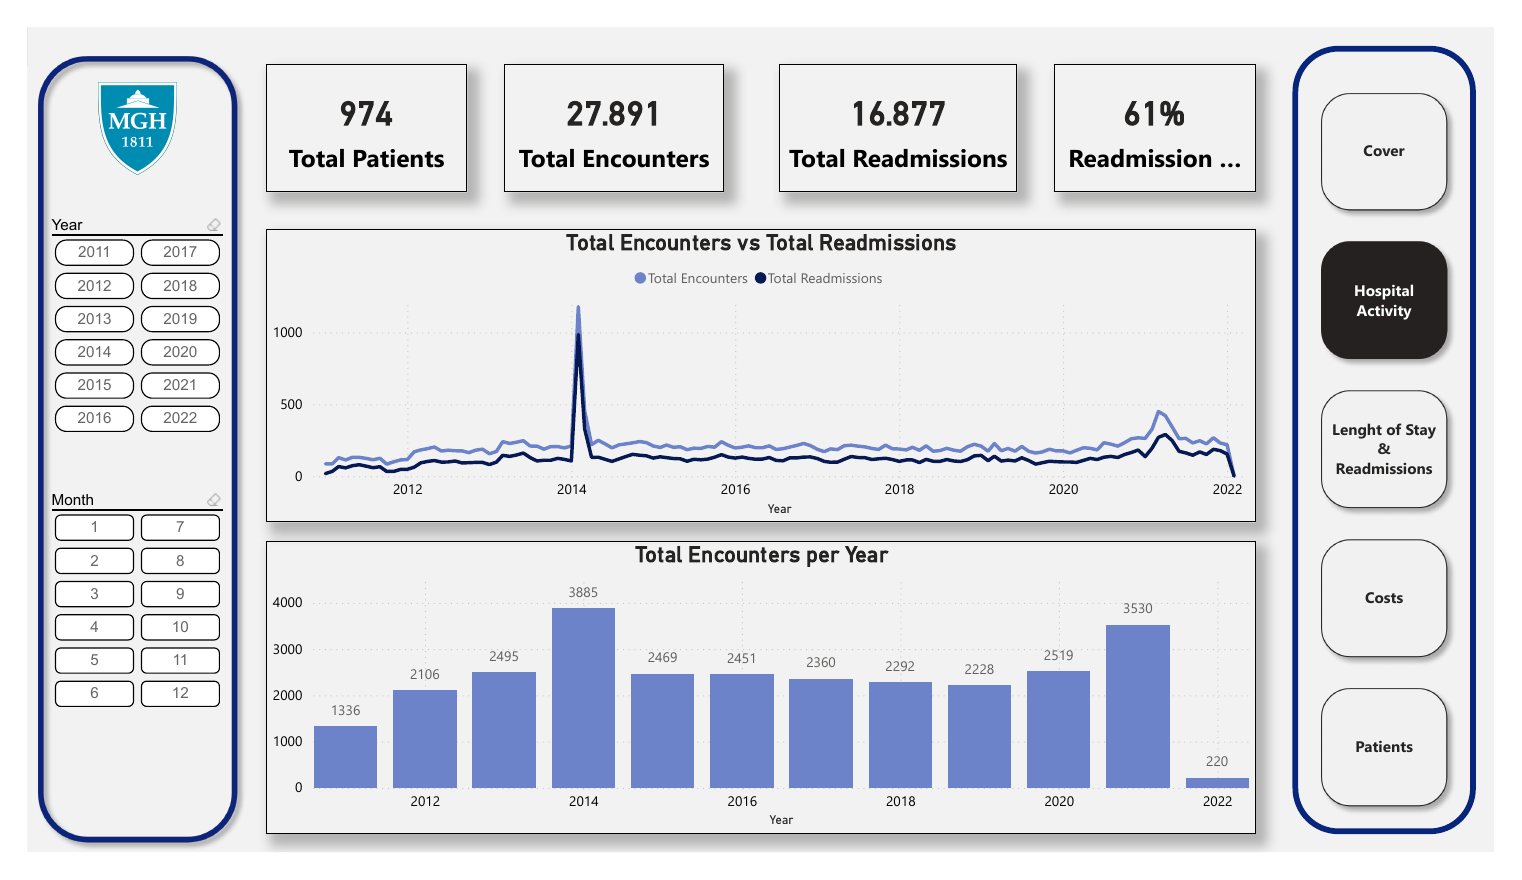

The page's visual inventory and layout, read from the dashboard file:
{"tool":"powerbi","page":{"name":"Hospital Activity","canvas":[1280,720],"ordinal":1},"visuals":[{"type":"shape","box":[0,16,192,704],"z":0},{"type":"shape","box":[1104,16,160,688],"z":1000},{"type":"card","title":"Total Encounters","fields":{"Values":["MEASURES_.TOTAL_ENCOUNTERS"]},"box":[416,32,192,112],"z":2000},{"type":"card","title":"(≤ 30 days)","fields":{"Values":["MEASURES_.TOTAL_READMISSIONS"]},"box":[656,32,208,112],"z":3000},{"type":"card","fields":{"Values":["MEASURES_.Readmission Rate"]},"box":[896,32,176,112],"z":4000},{"type":"card","fields":{"Values":["MEASURES_.Total Patients"]},"box":[208,32,176,112],"z":5000},{"type":"image","box":[48,48,96,80],"z":6000},{"type":"pageNavigator","box":[1120,48,128,640],"z":7000},{"type":"columnChart","title":"Total Encounters per Year","fields":{"Category":["DIM_Date.YEAR"],"Y":["MEASURES_.Total Encounters"]},"box":[208,448,864,256],"z":8000},{"type":"ChicletSlicer1448559807354","fields":{"Category":["DIM_Date.Year"]},"box":[16,160,160,224],"z":9000},{"type":"ChicletSlicer1448559807354","fields":{"Category":["DIM_Date.Month"]},"box":[16,400,160,208],"z":10000},{"type":"lineChart","title":"Total Encounters vs Total Readmissions","fields":{"Category":["DIM_Date.YearMonth"],"Y":["MEASURES_.TOTAL_ENCOUNTERS","MEASURES_.TOTAL_READMISSIONS"]},"box":[208,176,864,256],"z":11000}]}

Visuals, with their boxes in screenshot pixels (x1, y1, x2, y2), scaled from the page's 1280x720 canvas onto the 1522x880 screenshot:
shape: {"x1": 0, "y1": 20, "x2": 228, "y2": 879}
shape: {"x1": 1313, "y1": 20, "x2": 1503, "y2": 860}
"Total Encounters" card: {"x1": 495, "y1": 39, "x2": 723, "y2": 176}
"(≤ 30 days)" card: {"x1": 780, "y1": 39, "x2": 1027, "y2": 176}
card - MEASURES_.Readmission Rate: {"x1": 1065, "y1": 39, "x2": 1275, "y2": 176}
card - MEASURES_.Total Patients: {"x1": 247, "y1": 39, "x2": 457, "y2": 176}
image: {"x1": 57, "y1": 59, "x2": 171, "y2": 156}
pageNavigator: {"x1": 1332, "y1": 59, "x2": 1484, "y2": 841}
"Total Encounters per Year" columnChart: {"x1": 247, "y1": 548, "x2": 1275, "y2": 860}
ChicletSlicer1448559807354 - DIM_Date.Year: {"x1": 19, "y1": 196, "x2": 209, "y2": 469}
ChicletSlicer1448559807354 - DIM_Date.Month: {"x1": 19, "y1": 489, "x2": 209, "y2": 743}
"Total Encounters vs Total Readmissions" lineChart: {"x1": 247, "y1": 215, "x2": 1275, "y2": 528}
